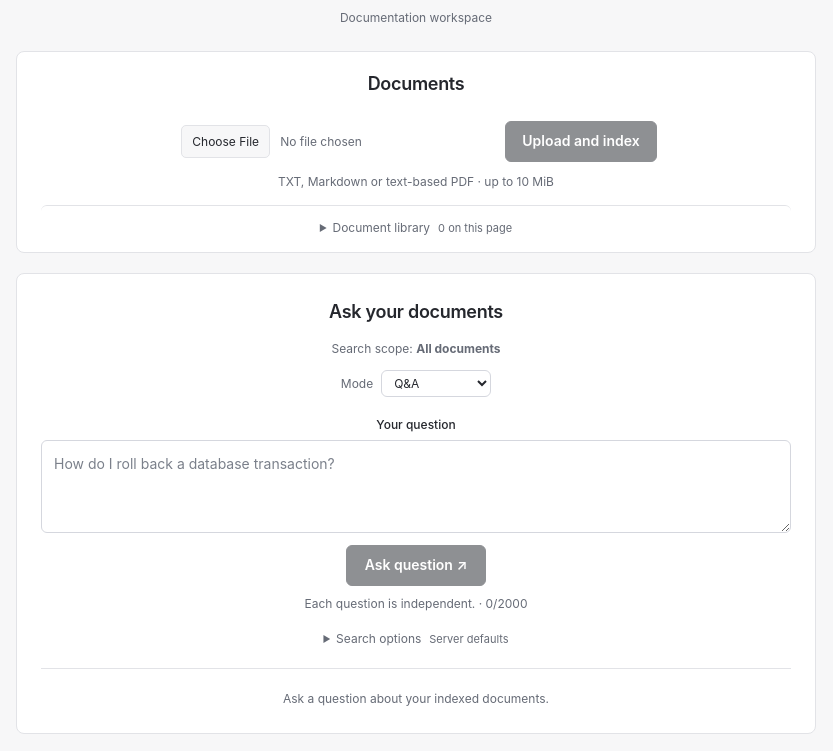
Test: documentation workspace › renders insufficient evidence without inventing source links
Type "Unknown question" into the text box labelled "Your question".
click(416, 487); type("Unknown question")  # box [41,440,791,533]
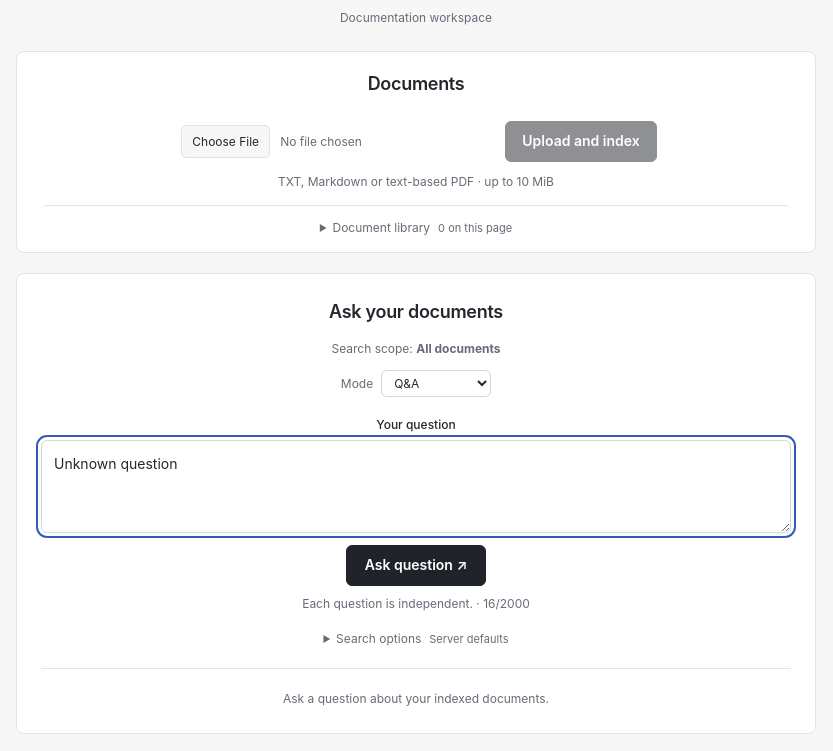
Click the button "Ask question ↗".
click(416, 565)  # box [346,545,486,586]
(page scrolled)
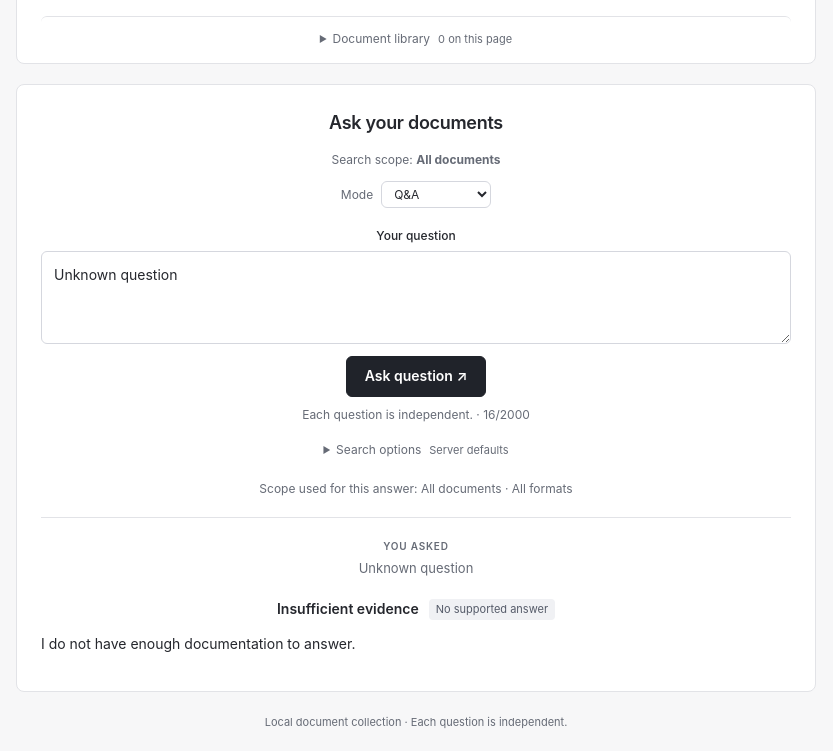
Result: the heading "Insufficient evidence" is shown at [277,598,419,621]
